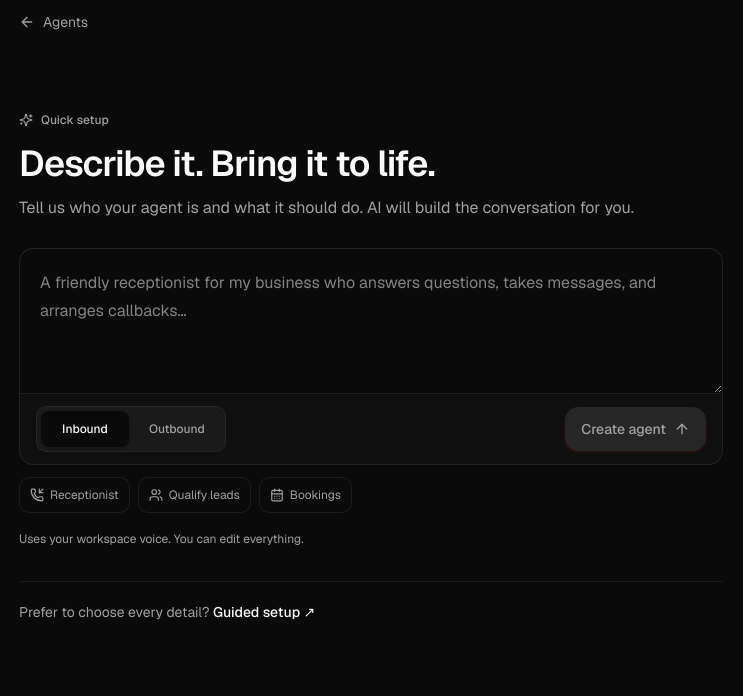
Scenario: Quick agent setup › only replaces the brief and direction after accepting the reviewed example
Replace the text in the text box named "Describe your agent" with "  A friendly HVAC receptionist who collects callback details.  " at (371, 321), box [20,249,722,393]
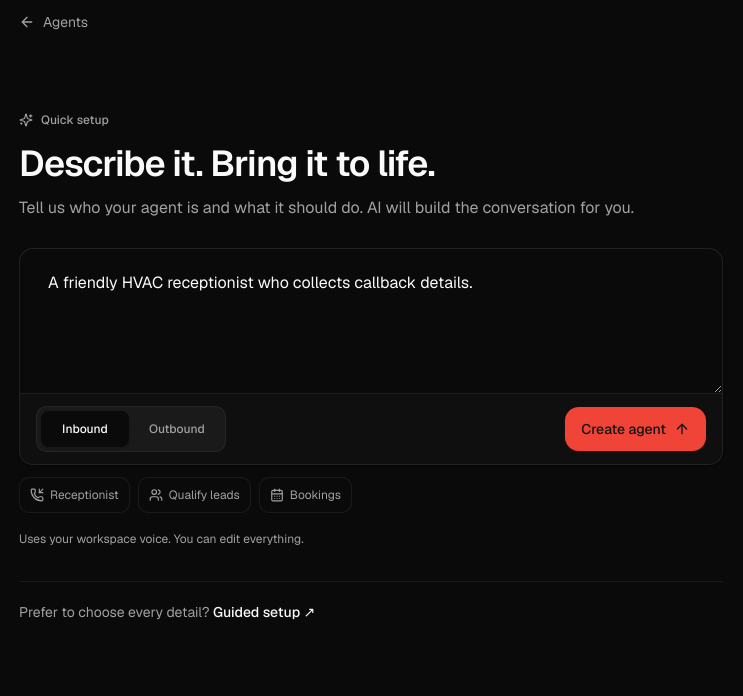
Click the button "Qualify leads" at (194, 495), box [138,477,251,513]
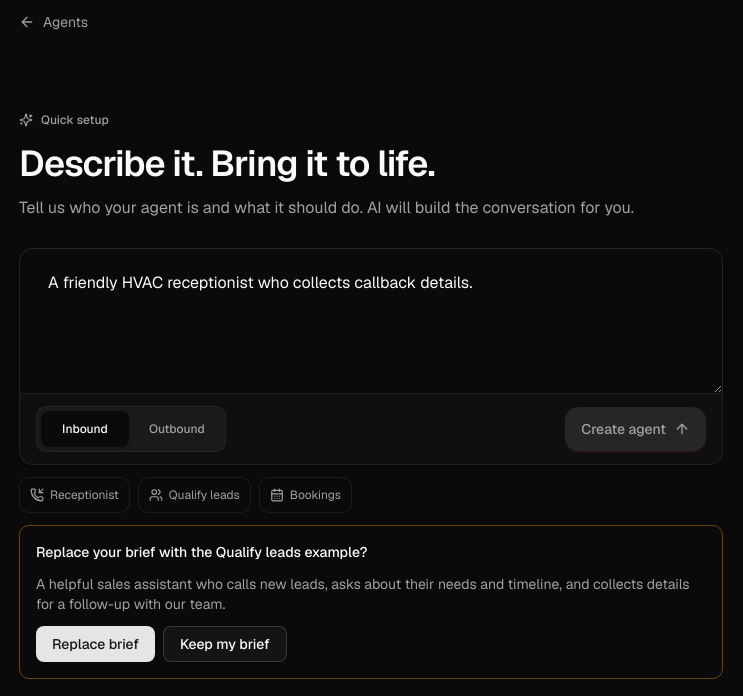
Expected: the radio button labelled "inbound" is checked, [62,421,108,437]
Click the button "Replace brief" at (96, 644), box [36,626,155,662]
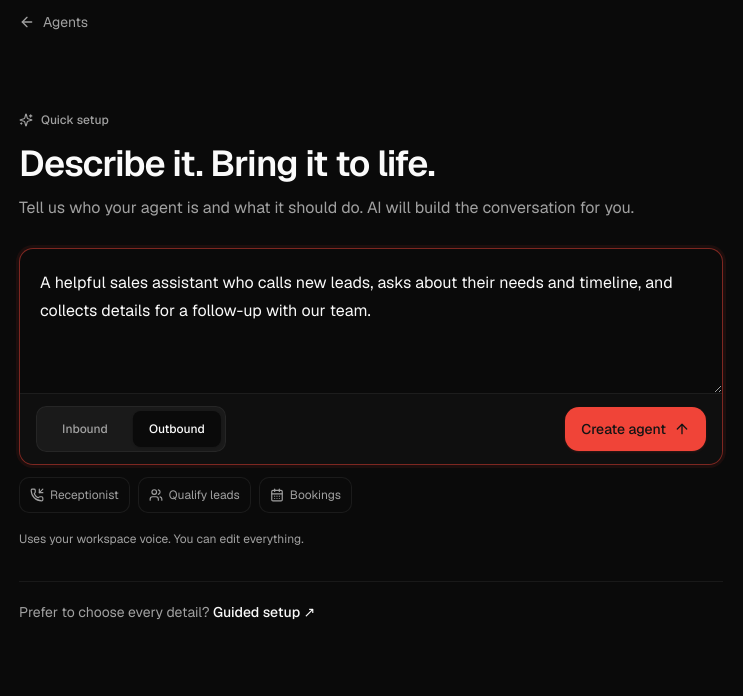
Now the radio button labelled "outbound" is checked, box [149,421,205,437]
